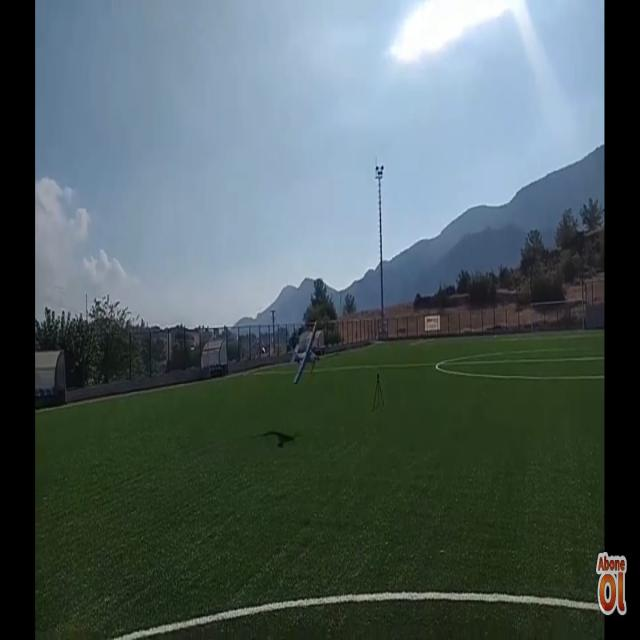iha: (293, 348, 319, 354)
